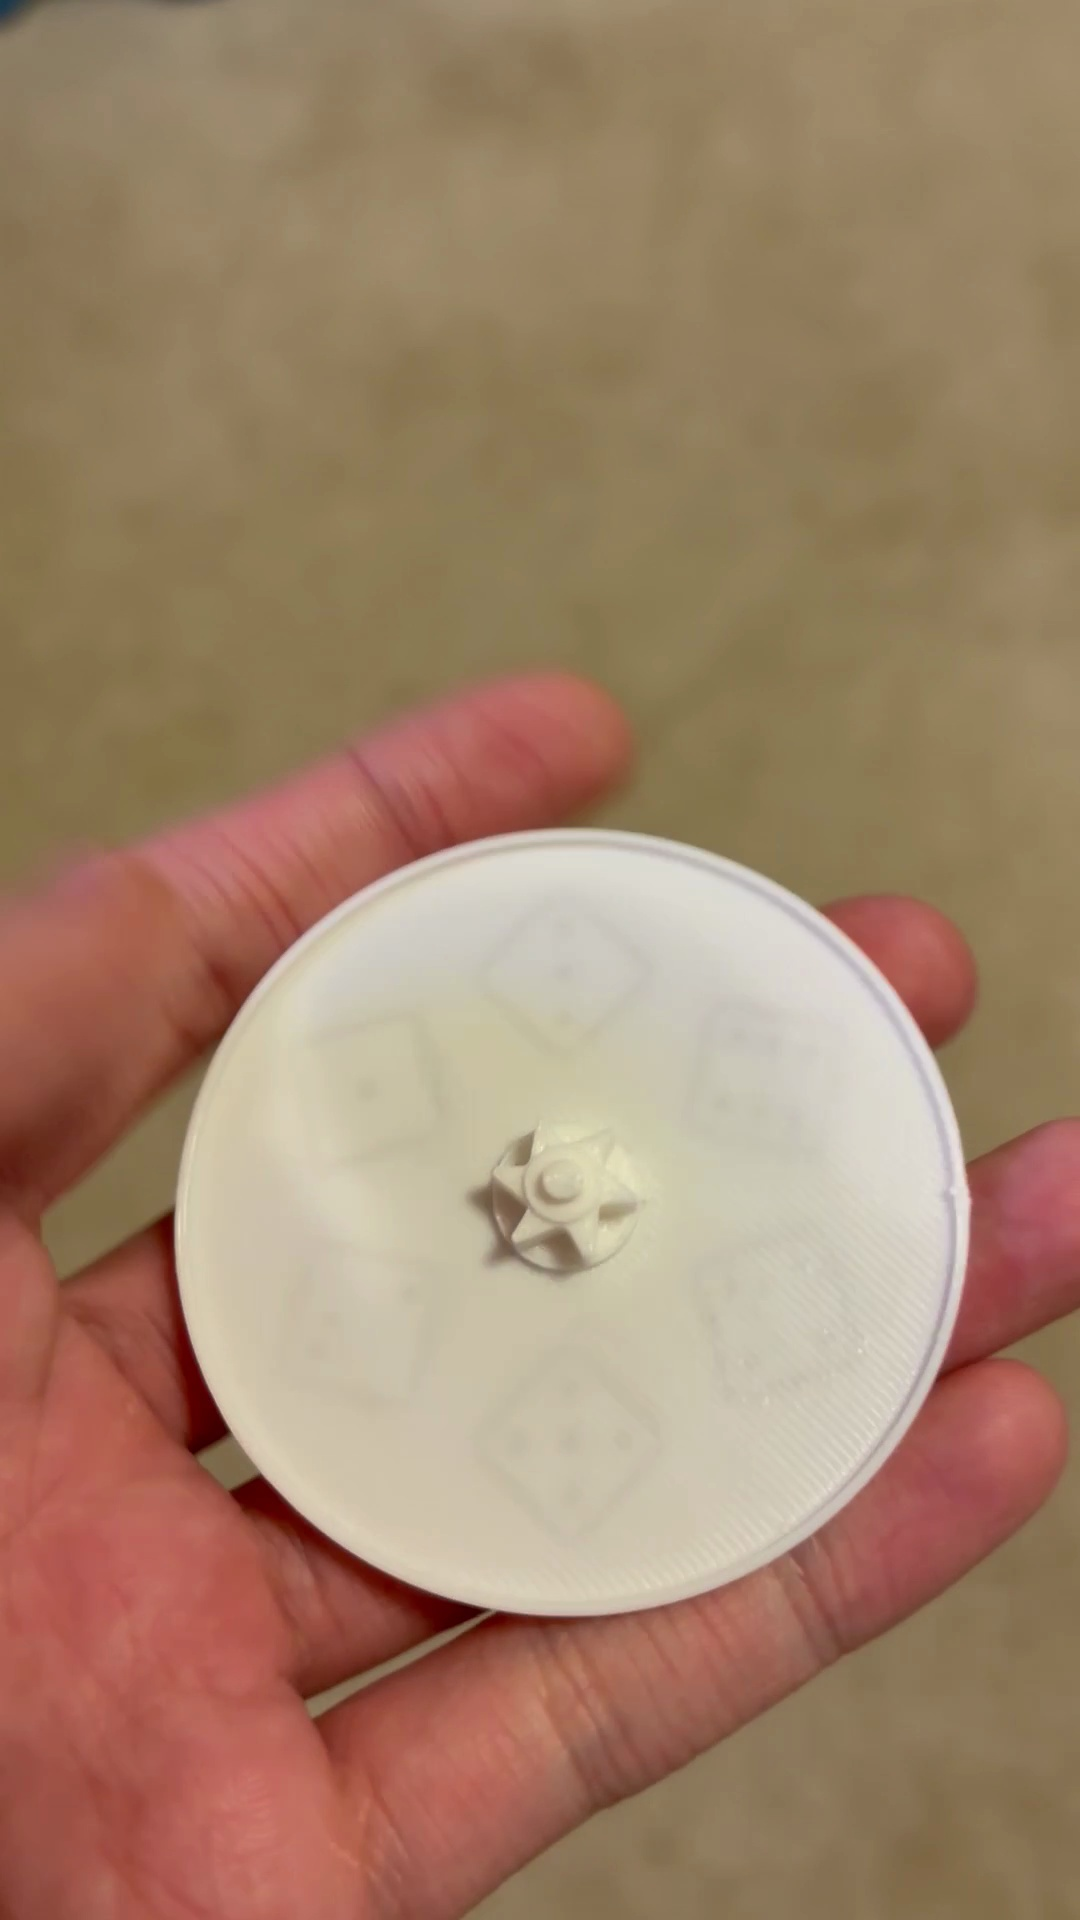Part1: (175, 829, 968, 1617)
